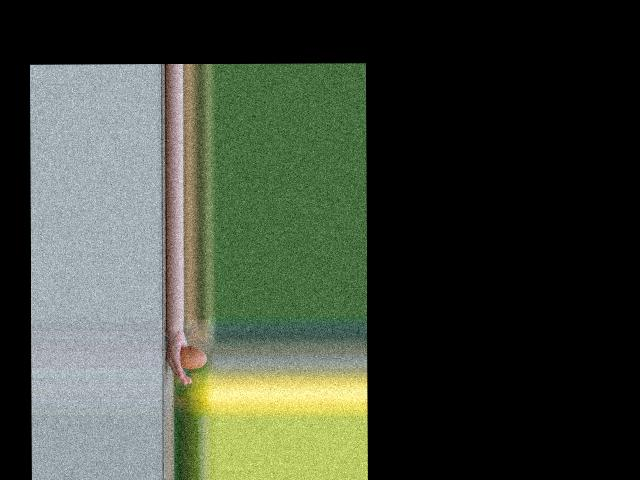egg: (179, 345, 206, 368)
